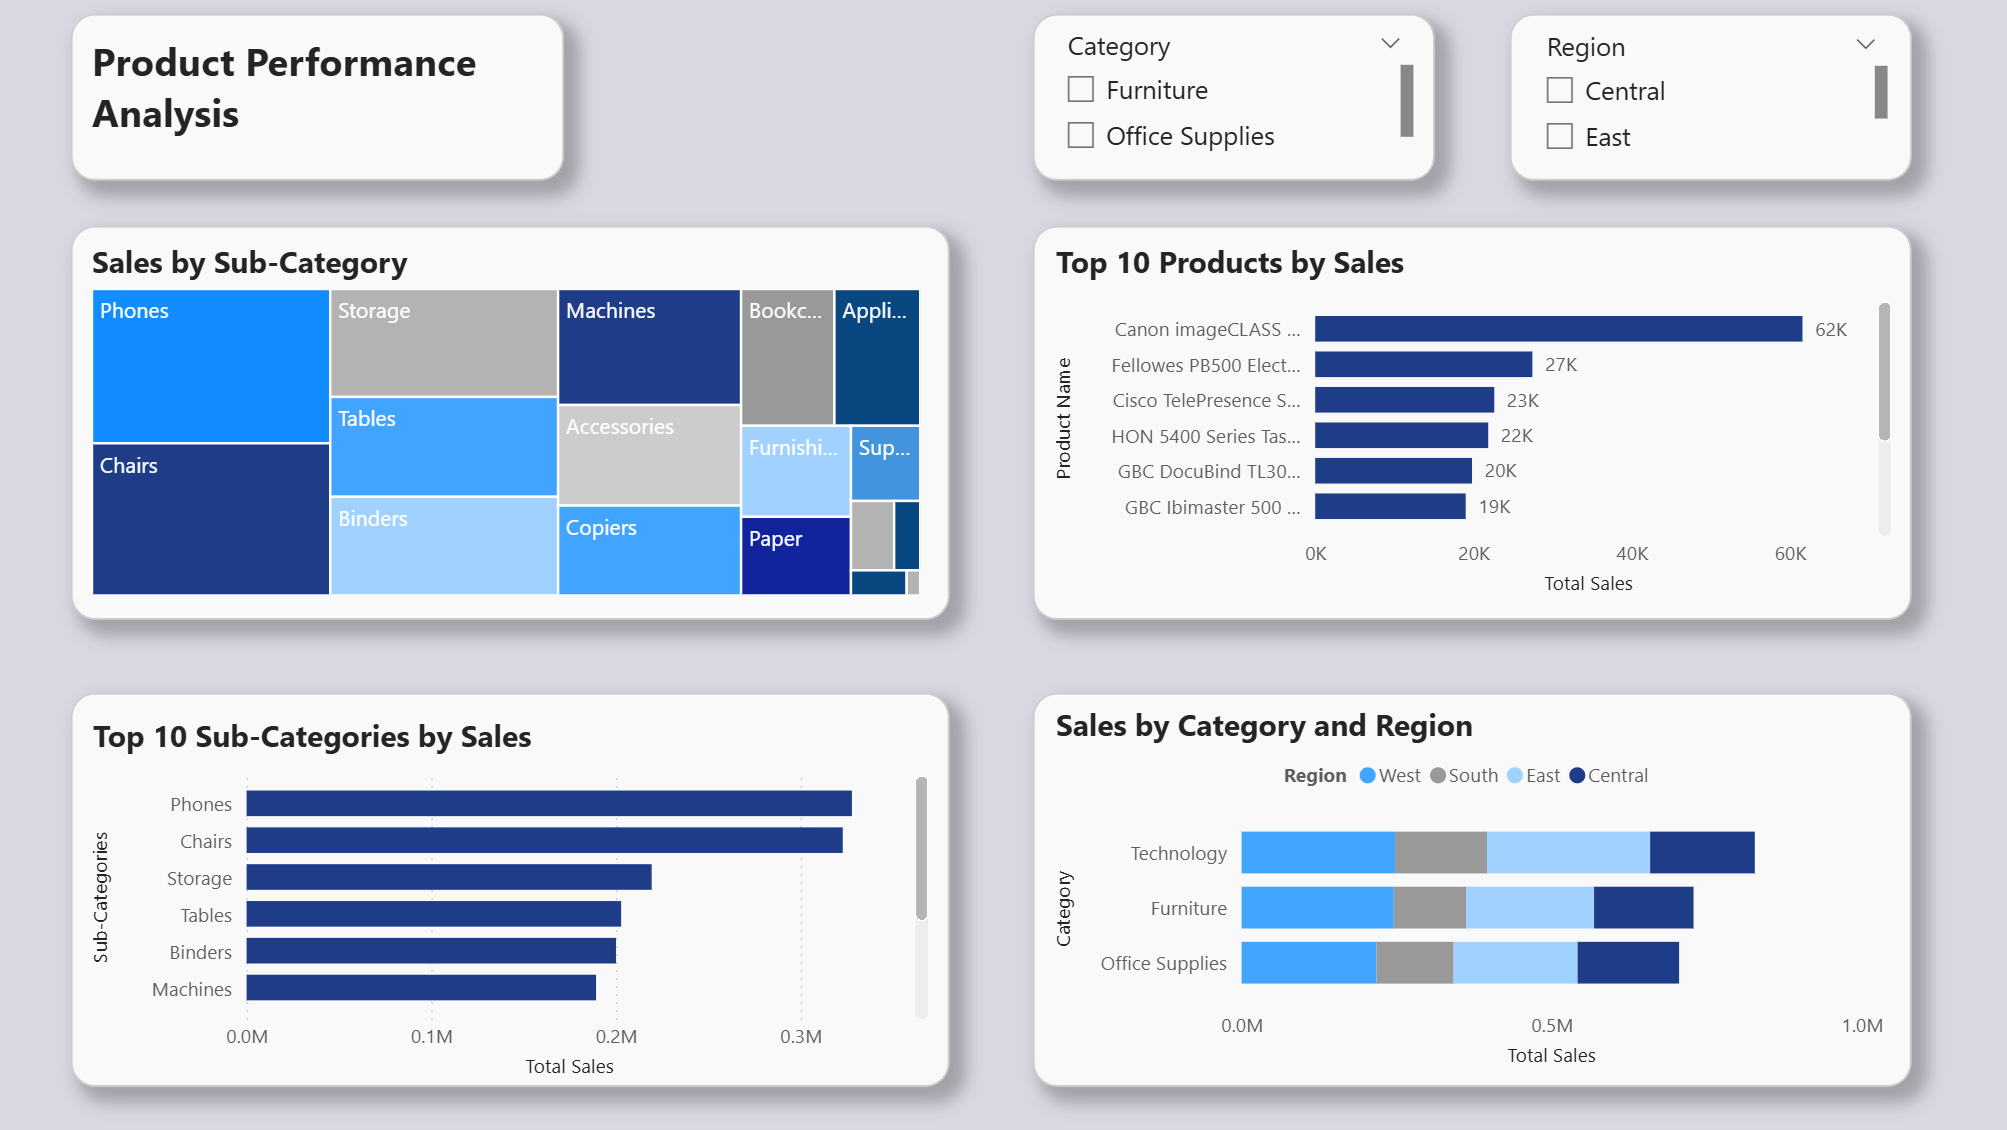

What the dashboard file says about the page in this screenshot:
{"tool":"powerbi","page":{"name":"Product Performance","canvas":[1280,720],"ordinal":1},"visuals":[{"type":"shape","box":[0,0,1279.8,720],"z":0},{"type":"shape","box":[50.7,144.7,549.3,246.2],"z":1000},{"type":"shape","box":[50.7,436.7,549.3,246.2],"z":2000},{"type":"shape","box":[652,144.7,549.3,246.2],"z":3000},{"type":"shape","box":[652,436.7,549.3,246.2],"z":4000},{"type":"shape","box":[50.7,12.4,308,103.9],"z":5000},{"type":"shape","box":[950.1,12.4,251.1,103.9],"z":6000},{"type":"shape","box":[652,12.4,251.1,103.9],"z":7000},{"type":"textbox","box":[58.8,19.8,314.2,88.5],"z":8000},{"type":"treemap","title":"Sales by Sub-Category","fields":{"Values":["public dim_customers.Total Sales"],"Group":["public dim_products.sub_category"]},"box":[58.8,154.6,527.6,226.4],"z":9000},{"type":"clusteredBarChart","title":"Top 10 Products by Sales","fields":{"Category":["public dim_products.product_name"],"Y":["public dim_customers.Total Sales"]},"box":[661.2,154.6,532,226.4],"z":10000},{"type":"barChart","title":"Sales by Category and Region","fields":{"Series":["public dim_locations.region"],"Category":["public dim_products.category"],"Y":["public dim_customers.Total Sales"]},"box":[661.2,443.5,527.6,232],"z":11000},{"type":"clusteredBarChart","title":"Top 10 Sub-Categories by Sales","fields":{"Category":["public dim_products.sub_category"],"Y":["public dim_customers.Total Sales"]},"box":[59.4,450.9,532,232],"z":12000},{"type":"slicer","fields":{"Values":["public dim_products.category"]},"box":[660.6,16.1,233.8,95.9],"z":13000},{"type":"slicer","fields":{"Values":["public dim_locations.region"]},"box":[960,16.7,231.3,95.3],"z":14000}]}

Visuals, with their boxes in screenshot pixels (x1, y1, x2, y2), scaled from the page's 1280x720 canvas onto the 2007x1130 screenshot:
shape: (0, 0, 2006, 1129)
shape: (79, 227, 941, 613)
shape: (79, 685, 941, 1072)
shape: (1022, 227, 1884, 613)
shape: (1022, 685, 1884, 1072)
shape: (79, 19, 562, 183)
shape: (1490, 19, 1883, 183)
shape: (1022, 19, 1416, 183)
textbox: (92, 31, 585, 170)
"Sales by Sub-Category" treemap: (92, 243, 919, 598)
"Top 10 Products by Sales" clusteredBarChart: (1037, 243, 1871, 598)
"Sales by Category and Region" barChart: (1037, 696, 1864, 1060)
"Top 10 Sub-Categories by Sales" clusteredBarChart: (93, 708, 927, 1072)
slicer - public dim_products.category: (1036, 25, 1402, 176)
slicer - public dim_locations.region: (1505, 26, 1868, 176)
